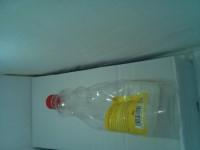bottle: (45, 79, 187, 141)
